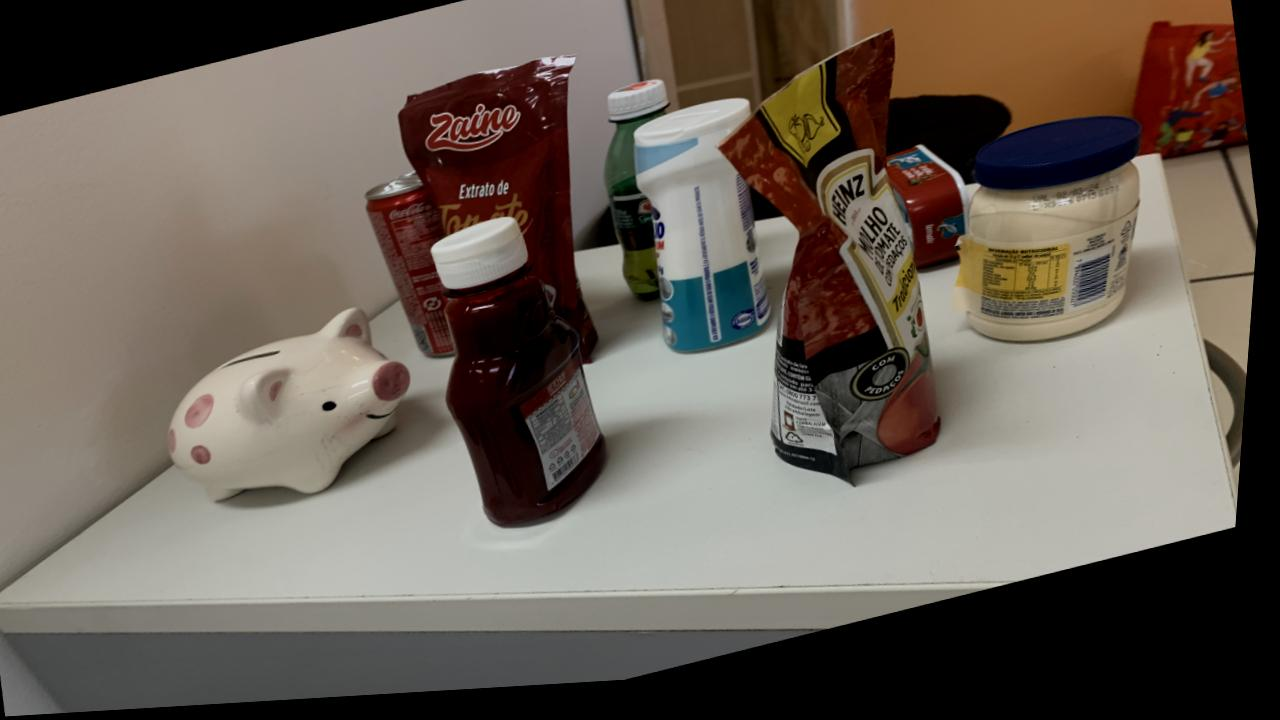Cleaner-Cleanup_Items: (636, 107, 777, 361)
Coke-Drinks: (368, 177, 459, 362)
Guarana-Drinks: (606, 87, 671, 309)
Ketchup-Pantry_Items: (434, 222, 614, 533)
Mayonnaise-Pantry_Items: (957, 130, 1145, 354)
Pig_Safe-Miscellaneous: (174, 312, 417, 503)
Tomato_Sauce-Pantry_Items: (720, 41, 948, 491), (400, 62, 603, 367)
Tuna_Can-Pantry_Items: (889, 156, 973, 278)
